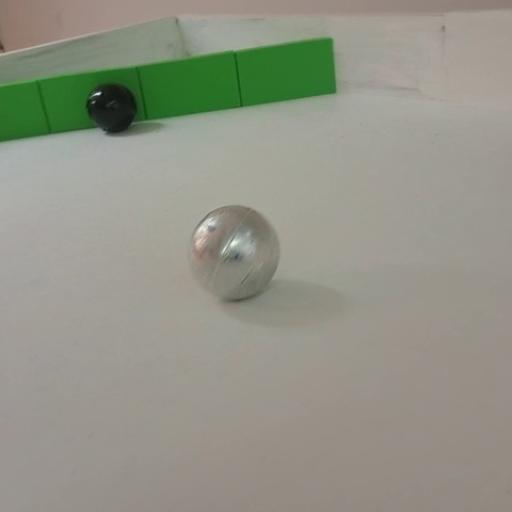alive: (186, 202, 282, 304)
dead: (82, 82, 146, 136)
